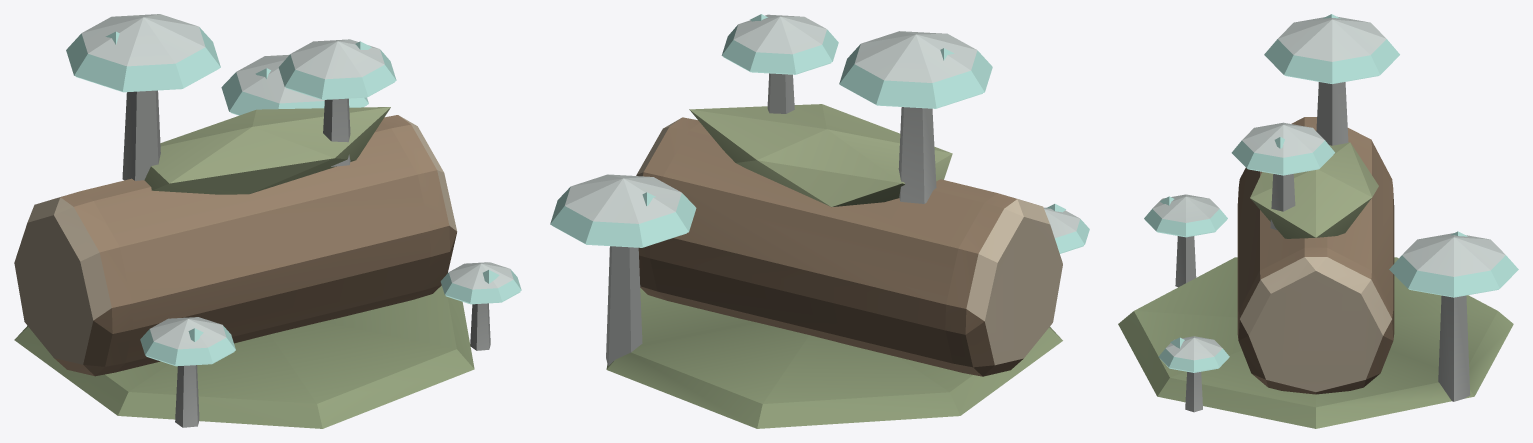
The model's file is mushroom_glow.glb.
The picture shows the model from 3 angles, left to right: view 1: azimuth 30°, elevation 25°; view 2: azimuth 150°, elevation 25°; view 3: azimuth 270°, elevation 25°; orthographic projection. The views are drawn at different scales.
Bounding box in the file's own units: 0.245 × 0.192 × 0.2469.
